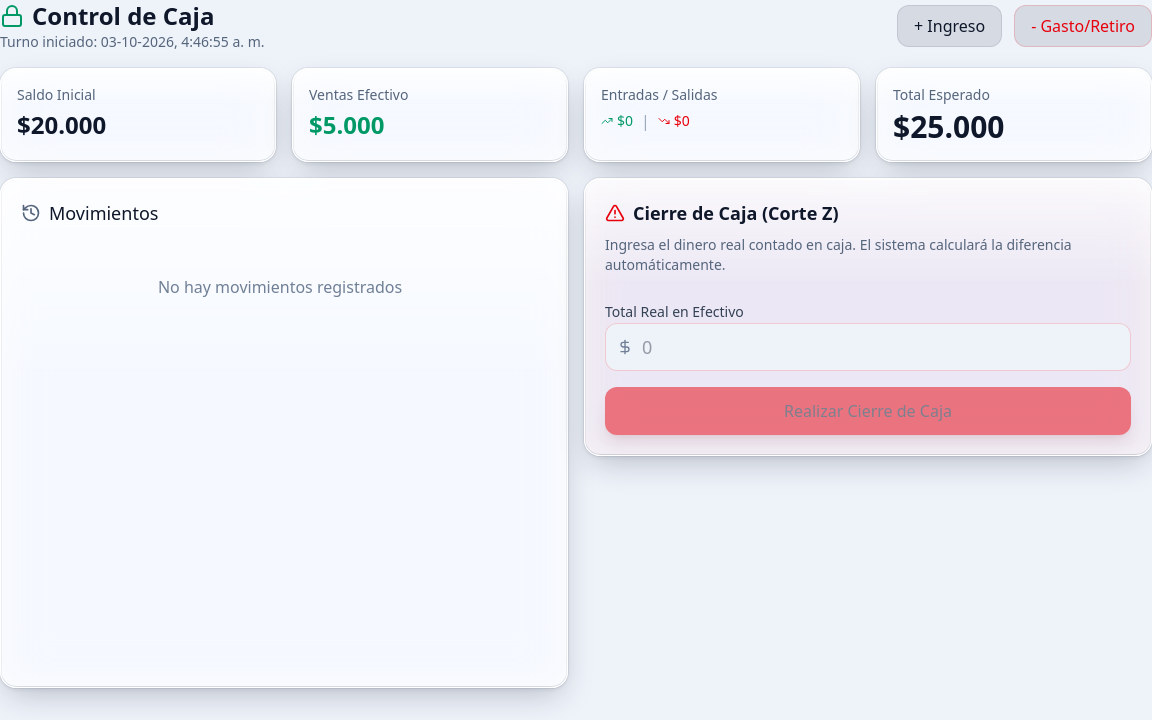
Scenario: Caja abierta › registra un gasto de caja chica y lo suma a la sesión
The image size is (1152, 720).
Expected: the heading "Control de Caja" is shown, [0,0,214,32]
Click the button "- Gasto/Retiro": (1083, 26) [1014,5,1151,47]
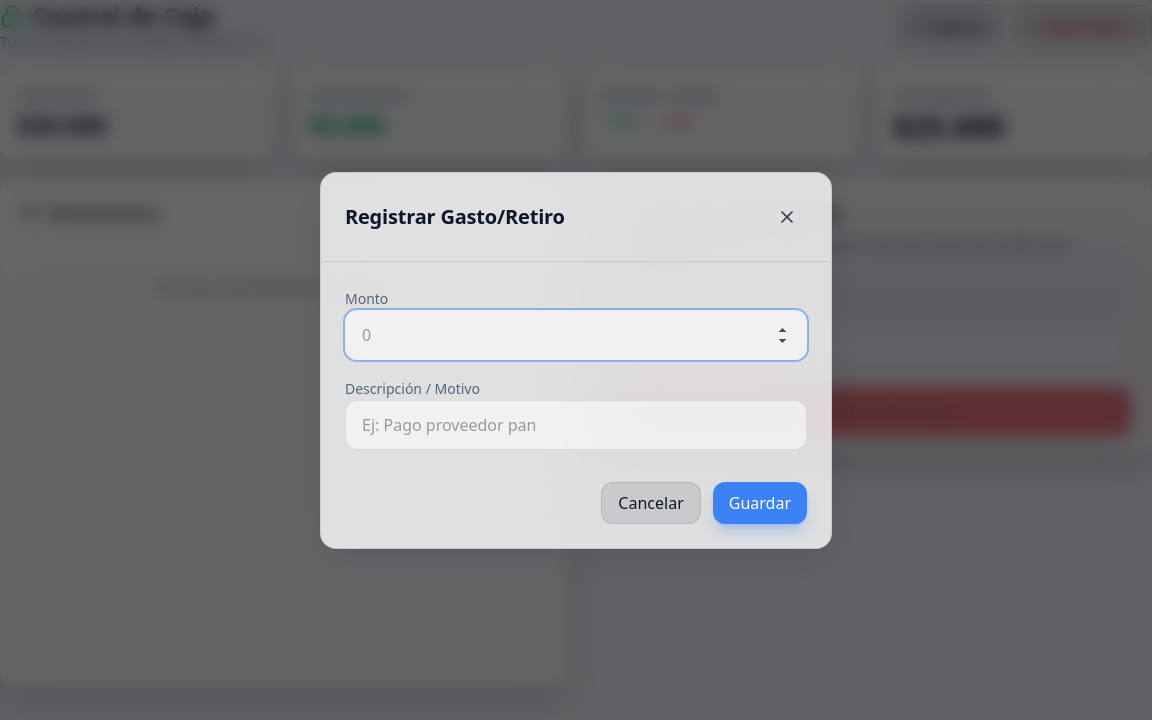
In the number field with placeholder "0": (576, 334) [345,310,807,360], type "3000"
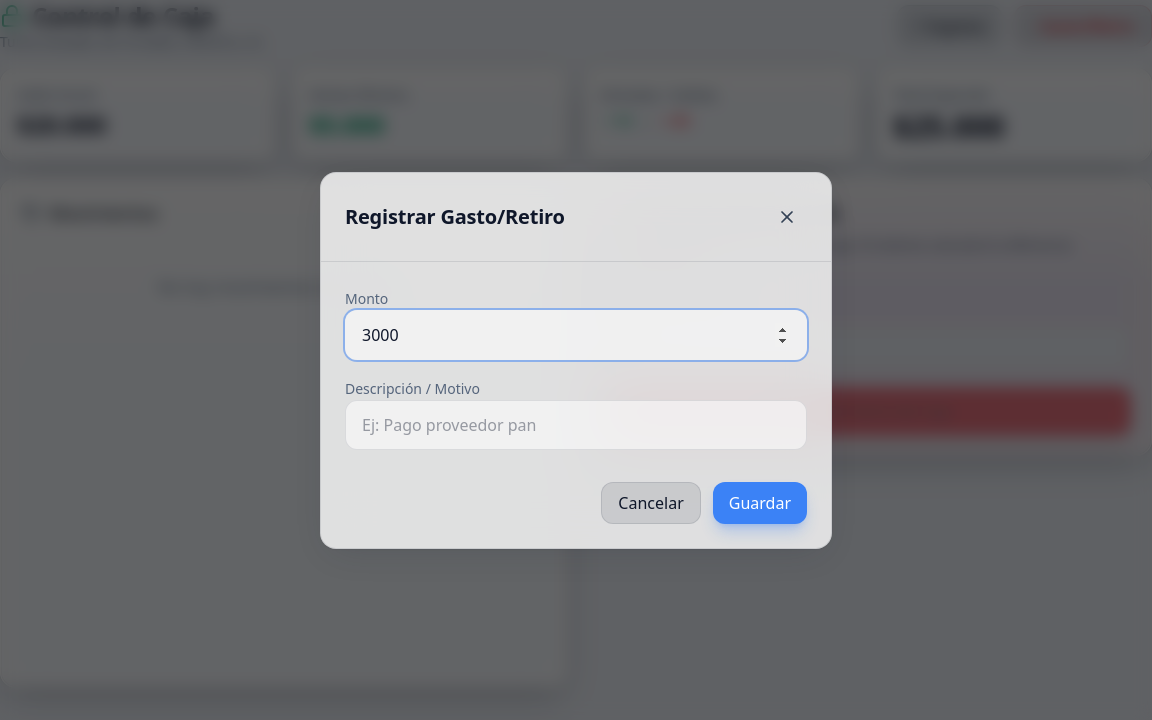
In the field with placeholder "Ej: Pago proveedor pan": (576, 424) [345,400,807,450], type "Pan"
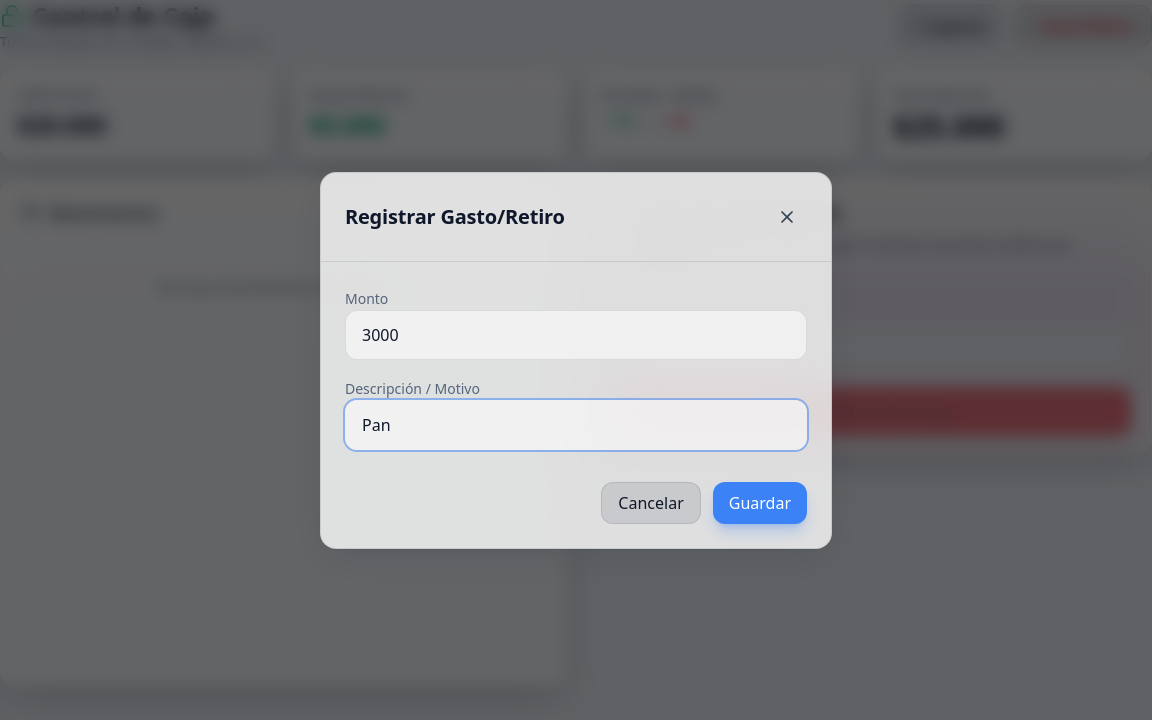
Click the button "Guardar": (760, 502) [713,482,807,524]
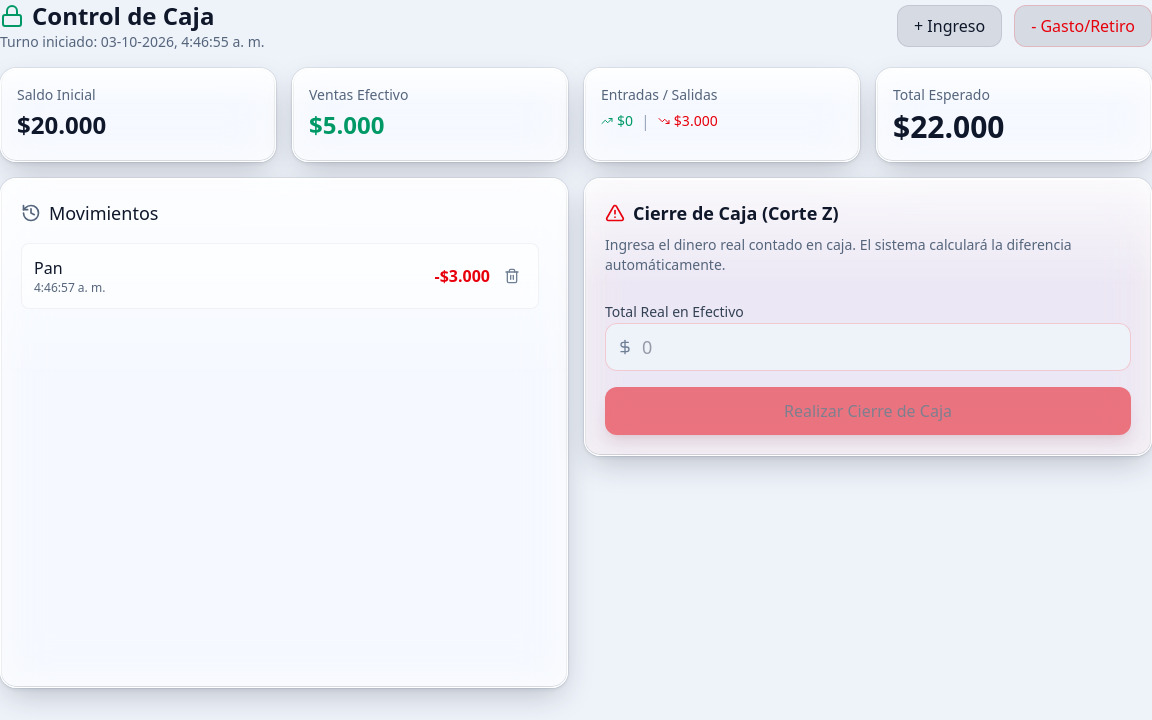
Expected: the text "Pan" is shown, [34,257,62,279]
